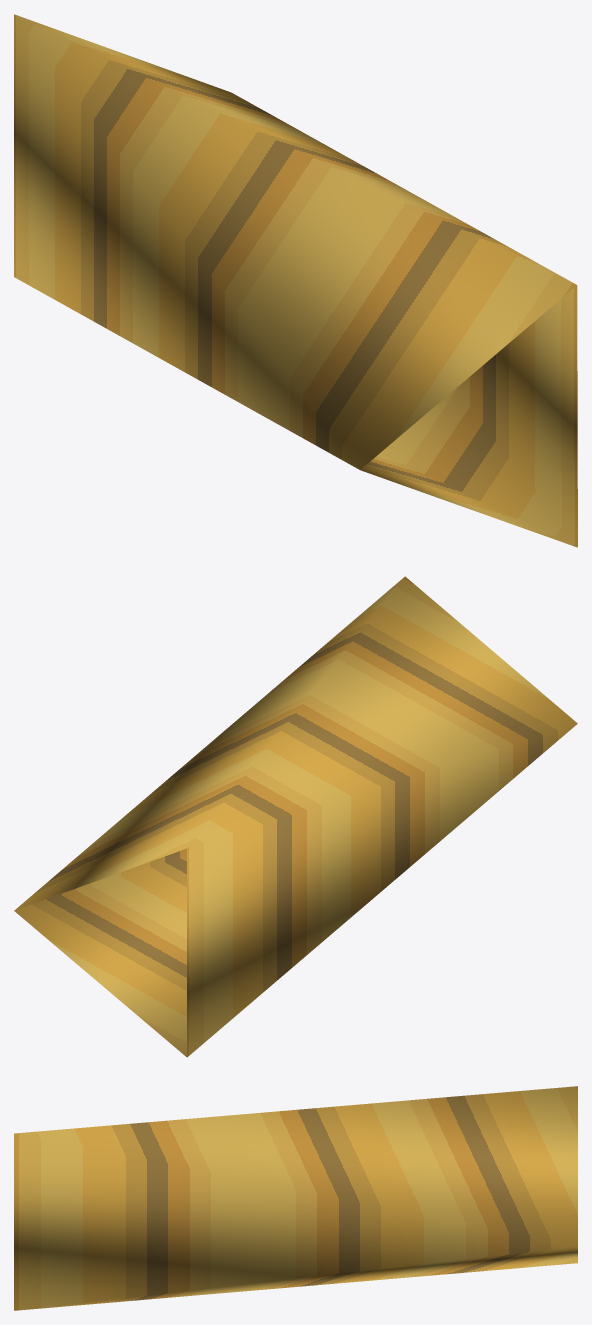
Rendered from testhimo1.dae.
3 renders of one model, top to bottom at view 1: azimuth 30°, elevation 25°; view 2: azimuth 150°, elevation 25°; view 3: azimuth 270°, elevation 25°, orthographic. The views are drawn at different scales.
Parts seen in each view (by area): view 1: n0b0; view 2: n0b0; view 3: n0b0.
Part boxes in pixels (<box>): n0b0: <box>14,14,577,547</box>; n0b0: <box>14,576,577,1057</box>; n0b0: <box>14,1086,577,1310</box>.
Size of the model in its own units: 20 by 17.34 by 50.
Materials: 1 (1 with a texture image).
